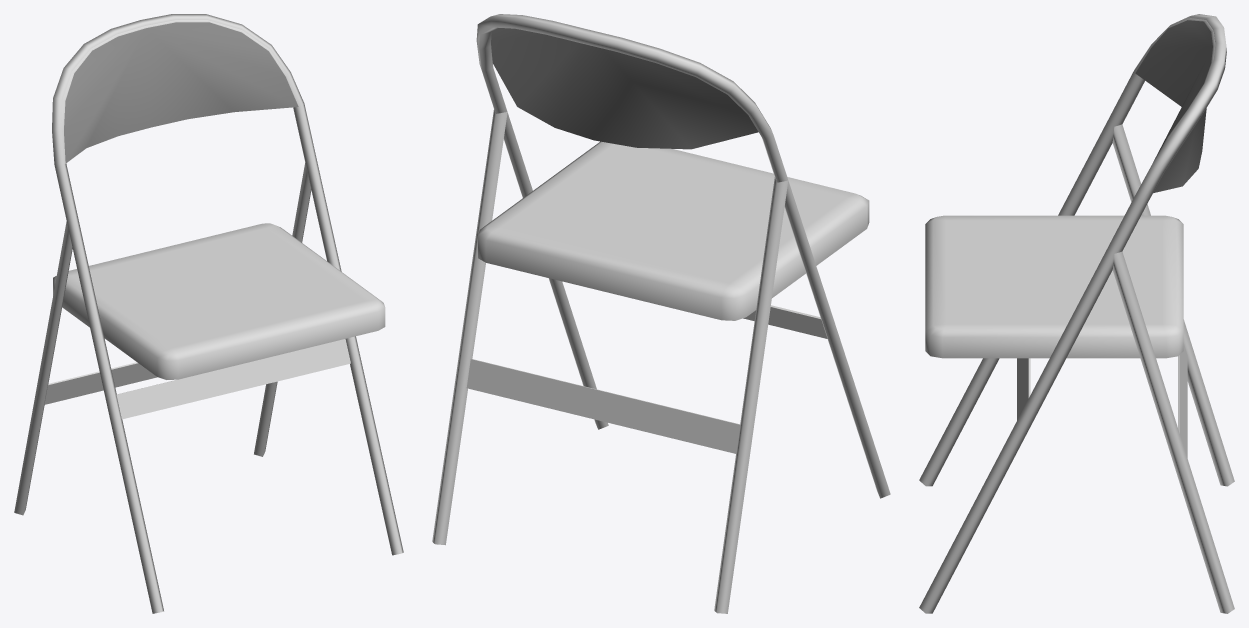
The model's file is Folding Chair.fbx.
3 views of the same model, side by side, from view 1: azimuth 30°, elevation 25°; view 2: azimuth 150°, elevation 25°; view 3: azimuth 270°, elevation 25° (orthographic). The views are drawn at different scales.
Parts seen in each view (by area): view 1: Cube.930_Cube.004; view 2: Cube.930_Cube.004; view 3: Cube.930_Cube.004.
Boxes of the visible parts, x1,y1,x2,y2 form: Cube.930_Cube.004: [14, 14, 403, 613]; Cube.930_Cube.004: [432, 14, 890, 613]; Cube.930_Cube.004: [919, 14, 1234, 613].
Size of the model in its own units: 140 by 248 by 140.
